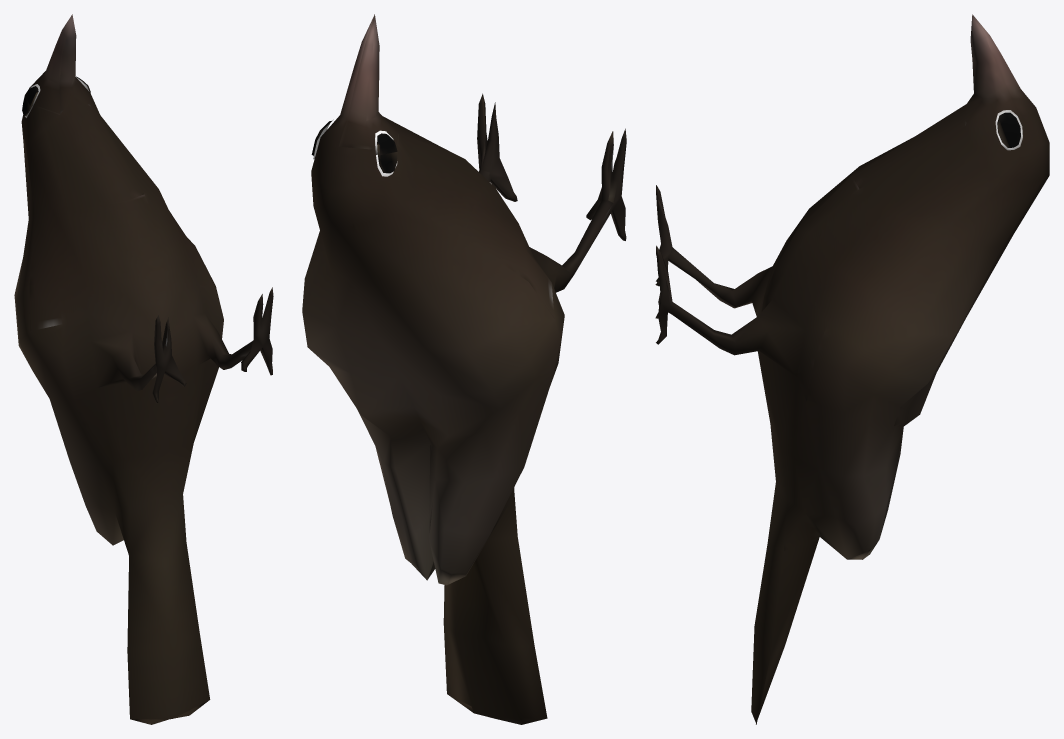
File: vrabec.obj
3 views of the same model, side by side, from view 1: azimuth 30°, elevation 25°; view 2: azimuth 150°, elevation 25°; view 3: azimuth 270°, elevation 25° (orthographic). The views are drawn at different scales.
Visible parts, largest first — view 1: vrabec_Mesh.149; view 2: vrabec_Mesh.149; view 3: vrabec_Mesh.149.
Boxes of the visible parts, <box> form: vrabec_Mesh.149: <box>14,14,273,724</box>; vrabec_Mesh.149: <box>302,14,626,724</box>; vrabec_Mesh.149: <box>655,14,1049,724</box>.
Size of the model in its own units: 26.58 by 86.69 by 44.21.
Materials: 1 (1 with a texture image).
